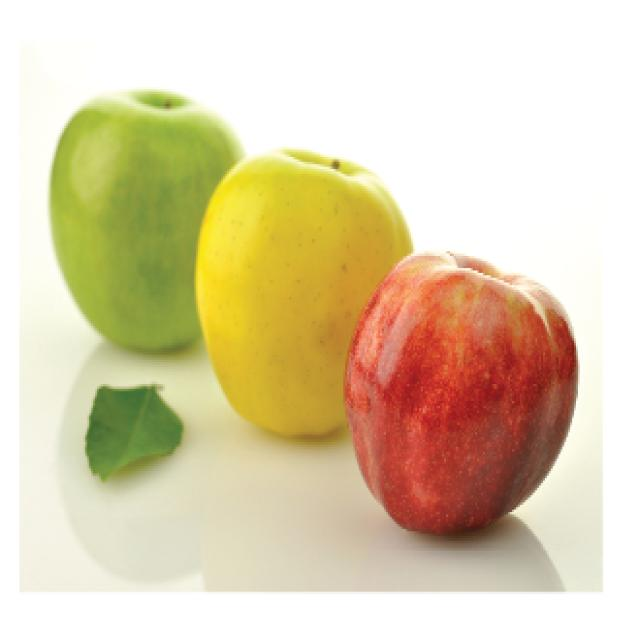Green Apple: (40, 52, 532, 375)
Red Apple: (342, 194, 581, 537), (48, 86, 251, 354)
